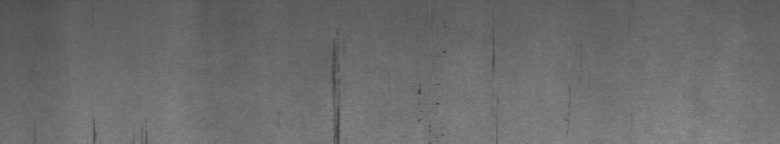hd: (328, 46, 347, 136)
